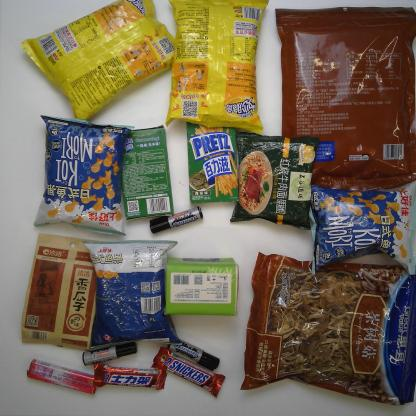Candy: (26, 358, 98, 395)
Chocolate: (150, 346, 227, 399), (93, 362, 168, 390)
Dessert: (121, 124, 176, 222), (186, 122, 240, 204)
Dried Food: (241, 251, 416, 407), (274, 6, 415, 193), (20, 232, 106, 351)
Instant Noodles: (229, 130, 321, 232)
Puffed Food: (19, 1, 176, 121), (157, 0, 274, 136), (31, 114, 135, 237), (80, 238, 183, 350), (304, 178, 416, 279)
Stationery: (166, 337, 221, 372), (149, 205, 204, 235), (82, 340, 138, 366)
Tissue: (163, 256, 240, 317)
